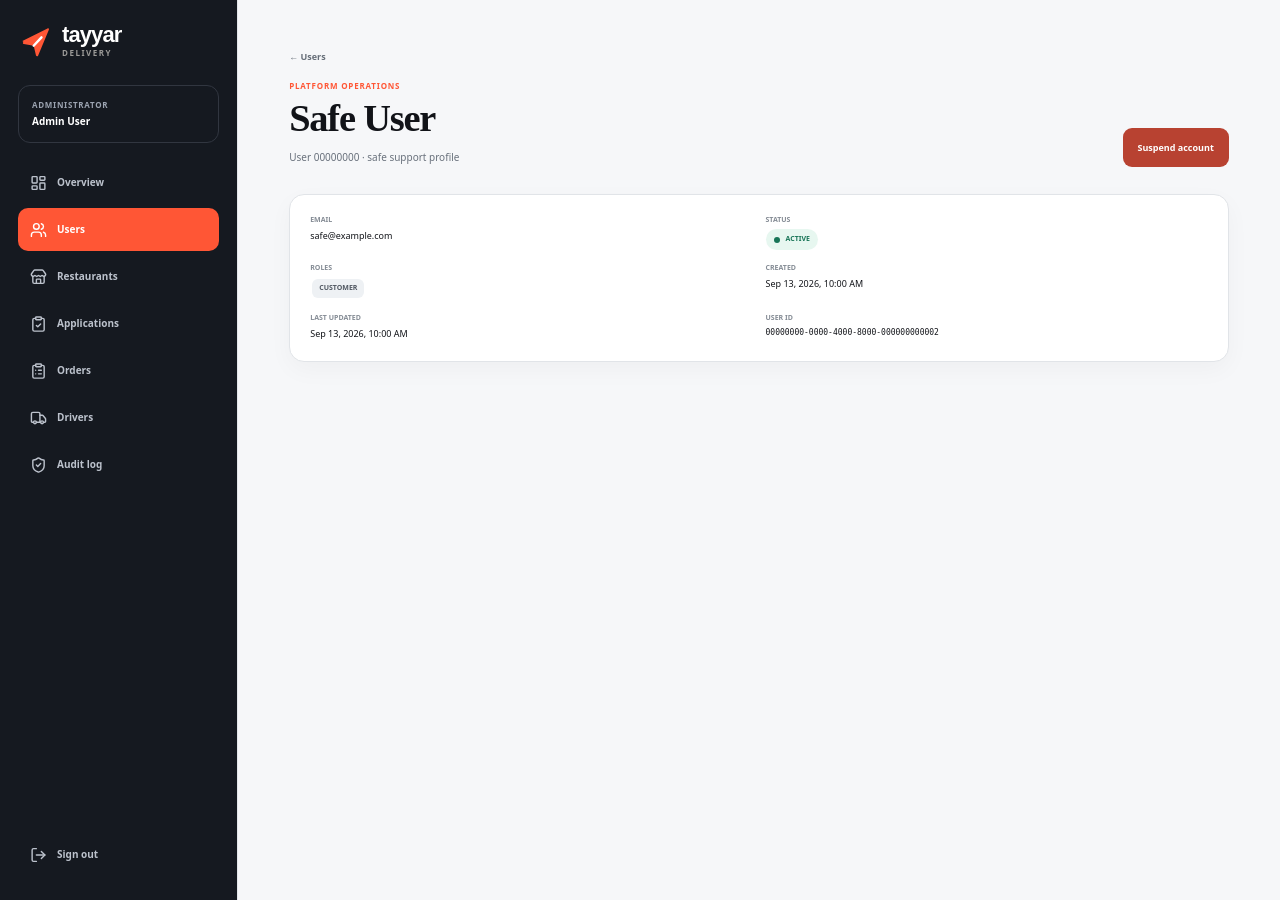
Test case: confirms suspension and refetches authoritative detail after a 409
Click the button "Suspend account" at (1176, 147), box [1122,128,1229,167]
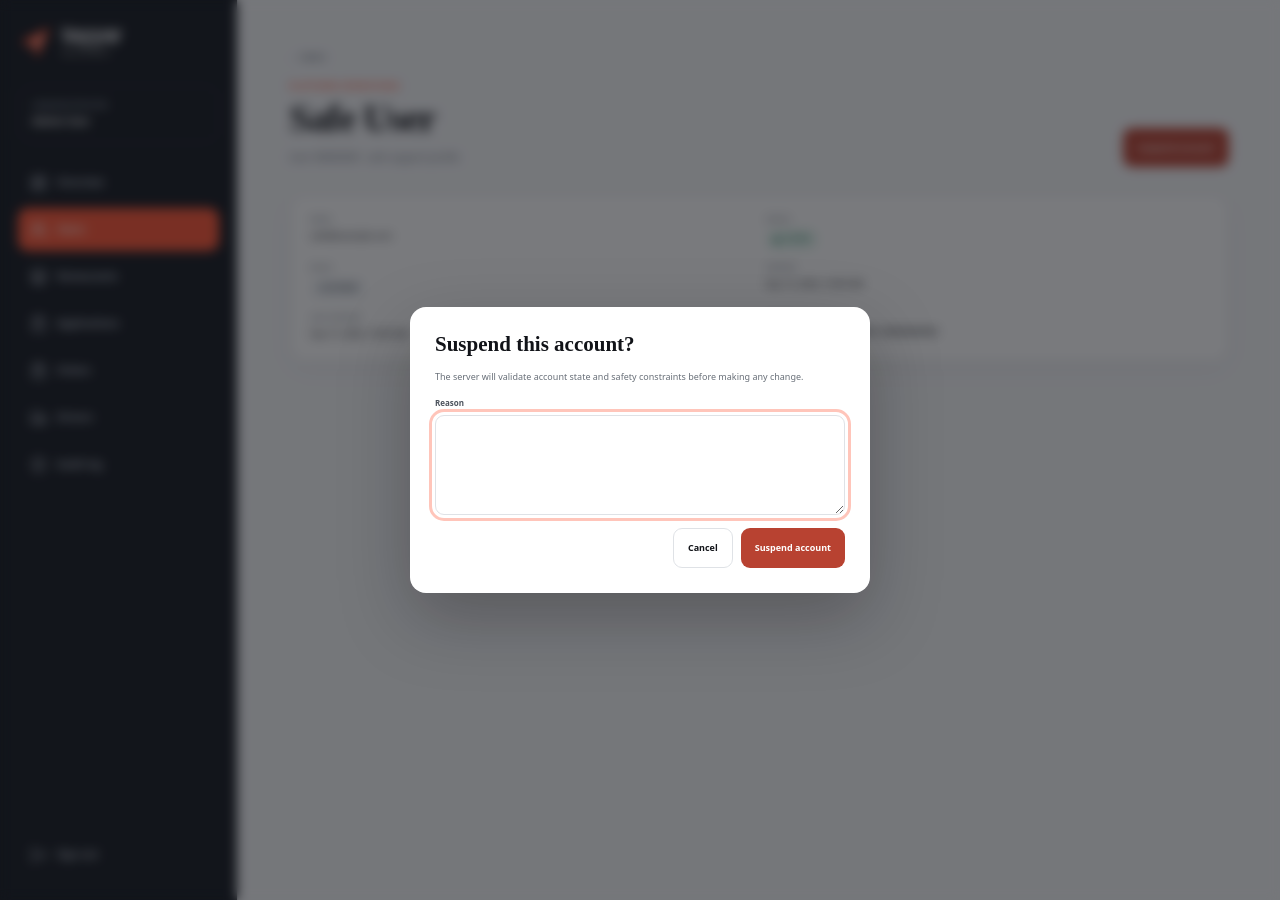
Type "Support review" into the text box labelled "Reason" at (640, 465), box [435,415,845,515]
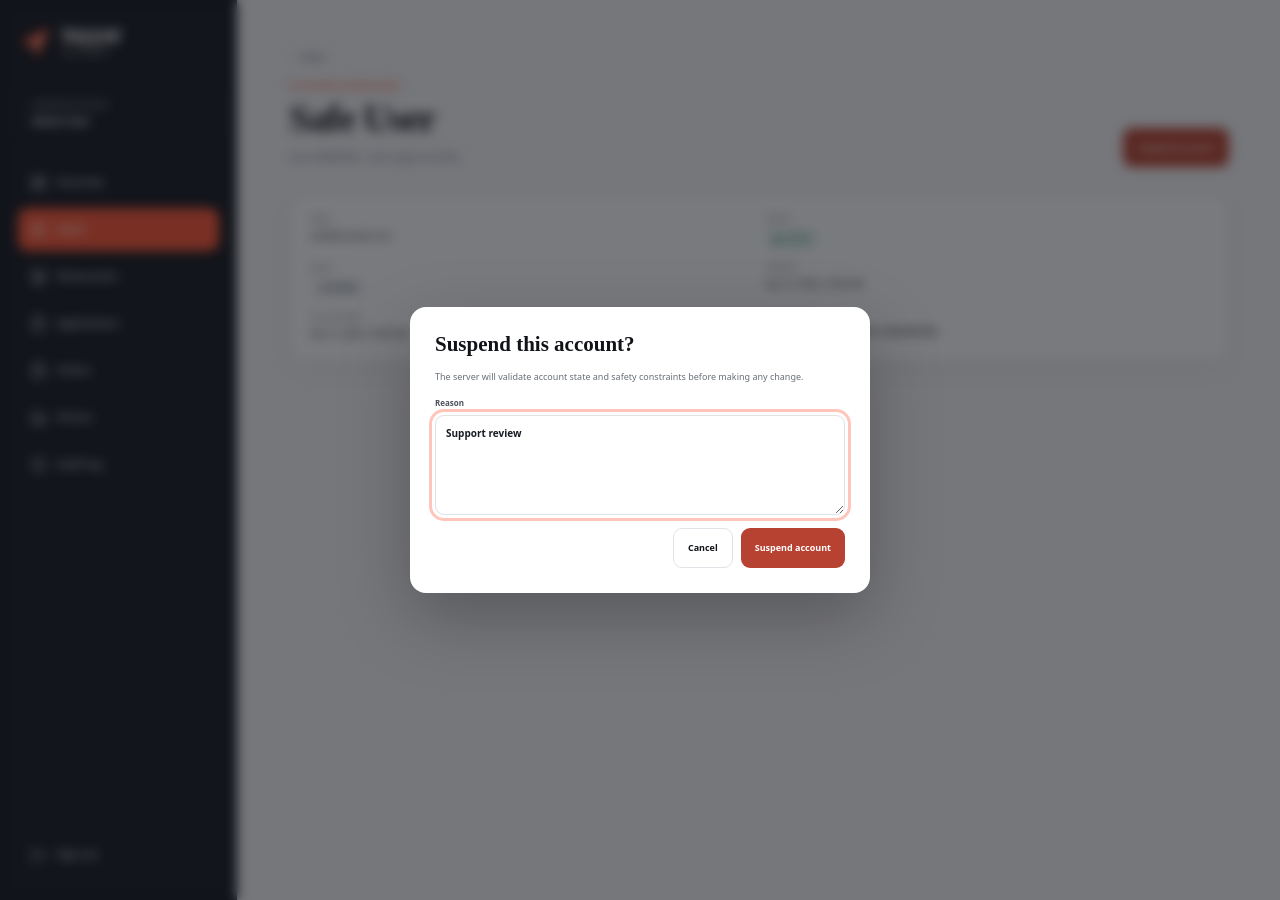
Click the button "Suspend account" at (793, 548), box [741,528,845,568]
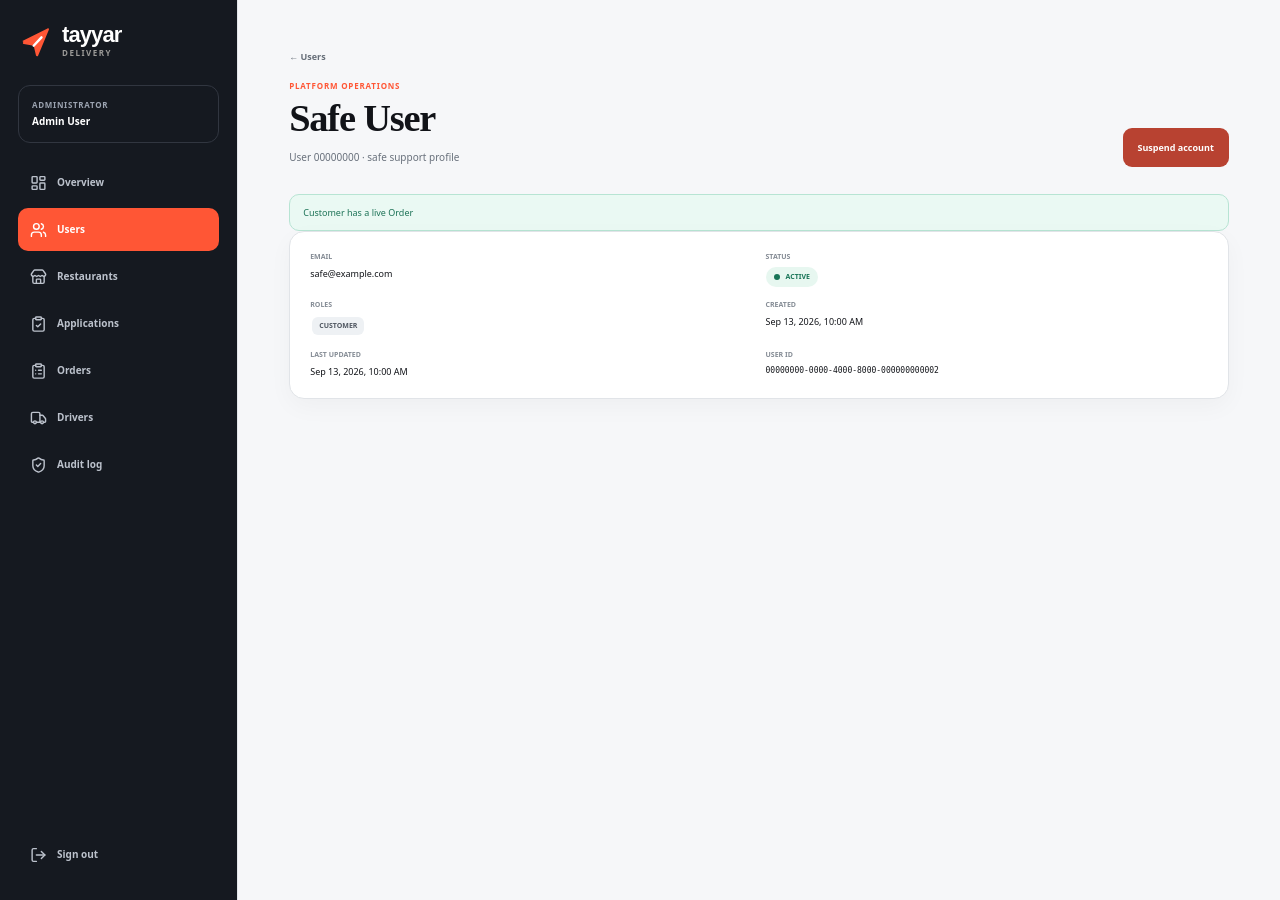
Result: the text "Customer has a live Order" is shown at [289,194,1229,231]
